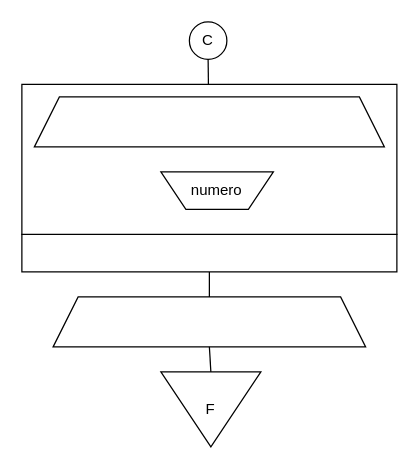
Some shapes in this 419 by 469 pixel diagram are drawn without their labels. Each missing label, with the box of its shape:
"El doble del número es ", numero * 2: (52, 296, 366, 347)
"Ingrese un número comprendido entre 1 y 10":: (33, 96, 384, 147)
numero <1 || numero> 10: (21, 233, 397, 272)
